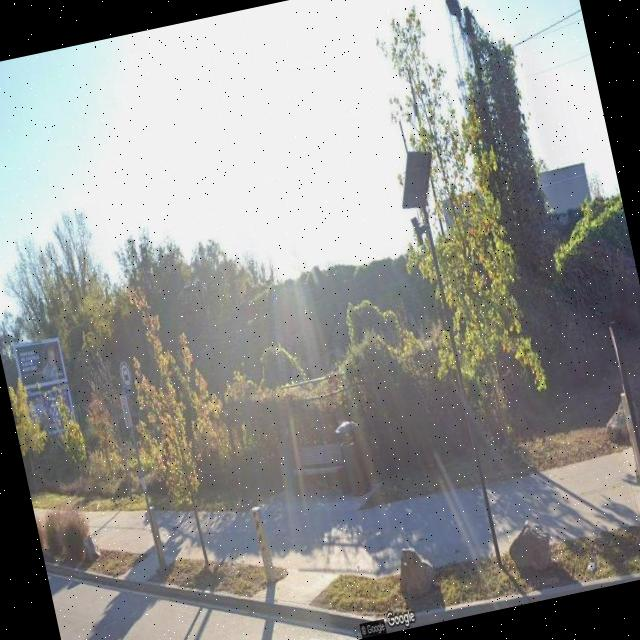seating: (288, 437, 350, 502)
trash_can: (333, 418, 374, 499)
